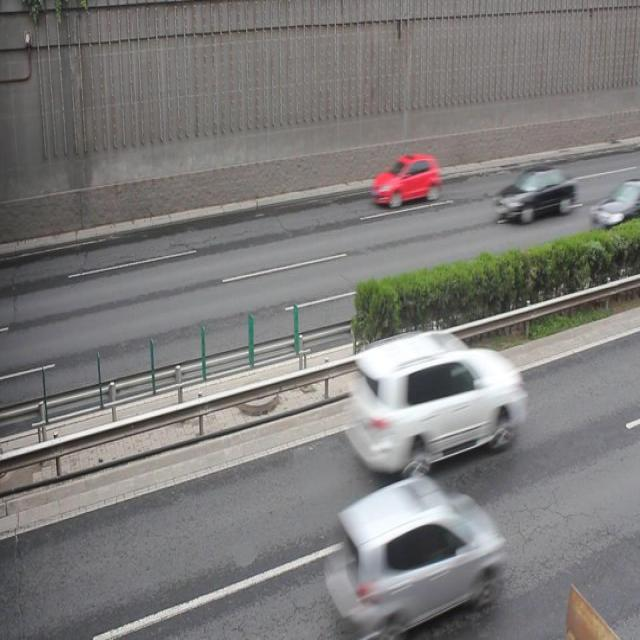car: (323, 470, 499, 640), (345, 329, 521, 475), (493, 164, 576, 222), (372, 152, 438, 205)
